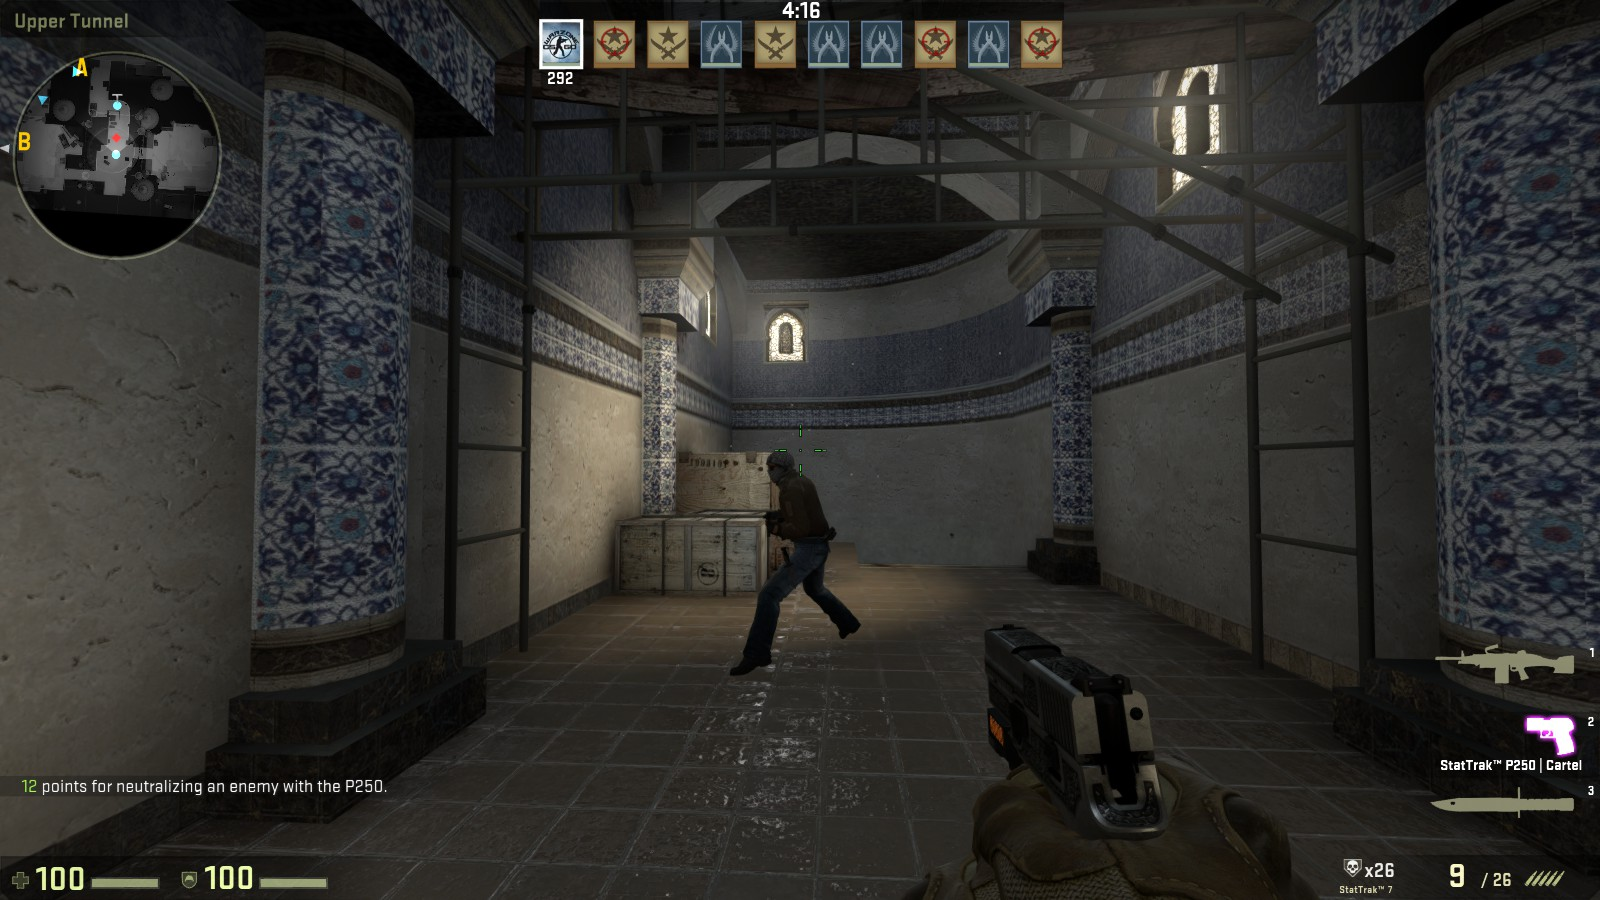t: (751, 447, 847, 679)
th: (765, 451, 797, 486)
